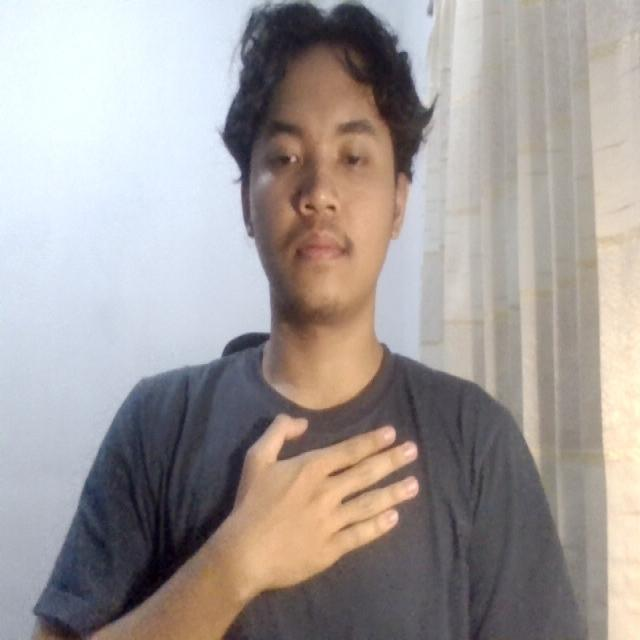Nama: (207, 393, 448, 607)
